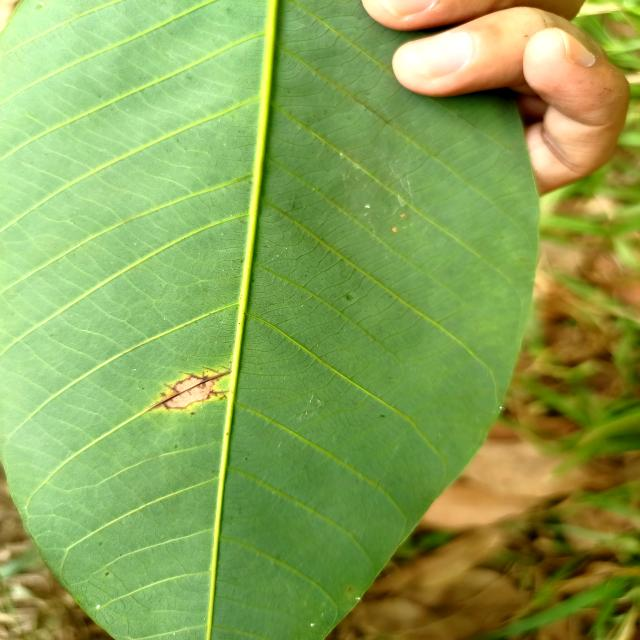Corynespora: (144, 365, 233, 413)
Leaf-Blight: (166, 378, 213, 408)
